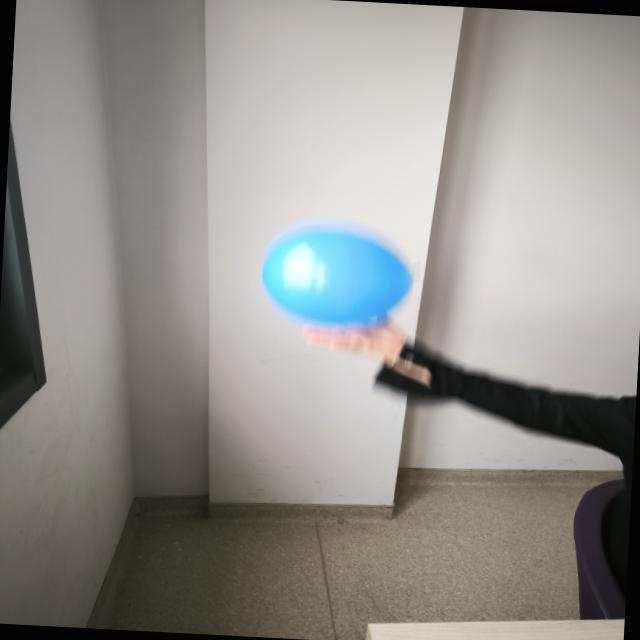balloon: (262, 225, 411, 326)
